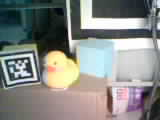duck: (35, 48, 81, 91)
